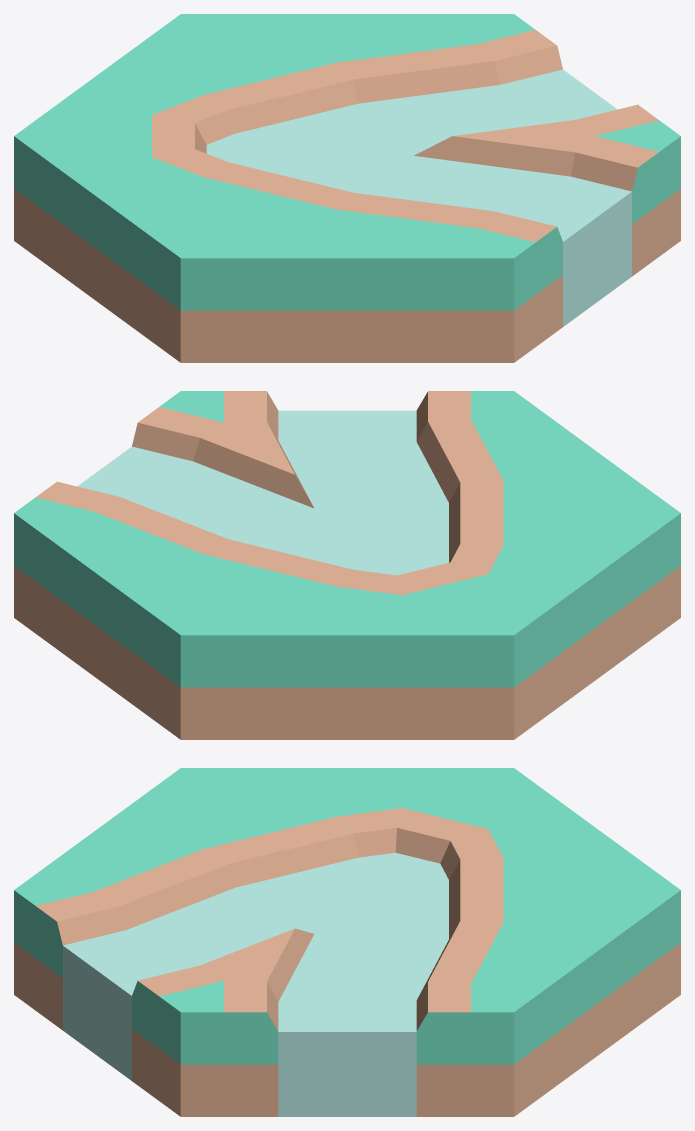
File: river_cornerSharp.glb
3 views of the same model, one above another, from view 1: azimuth 30°, elevation 25°; view 2: azimuth 150°, elevation 25°; view 3: azimuth 270°, elevation 25° (orthographic).
Parts seen in each view (by area): view 1: river_cornerSharp; view 2: river_cornerSharp; view 3: river_cornerSharp.
Boxes of the visible parts, box(x1,y1,x2,y2) form: river_cornerSharp: box(14, 14, 680, 362); river_cornerSharp: box(14, 391, 680, 739); river_cornerSharp: box(14, 768, 680, 1116).
Bounding box in the file's own units: 1 × 0.2 × 1.15.
